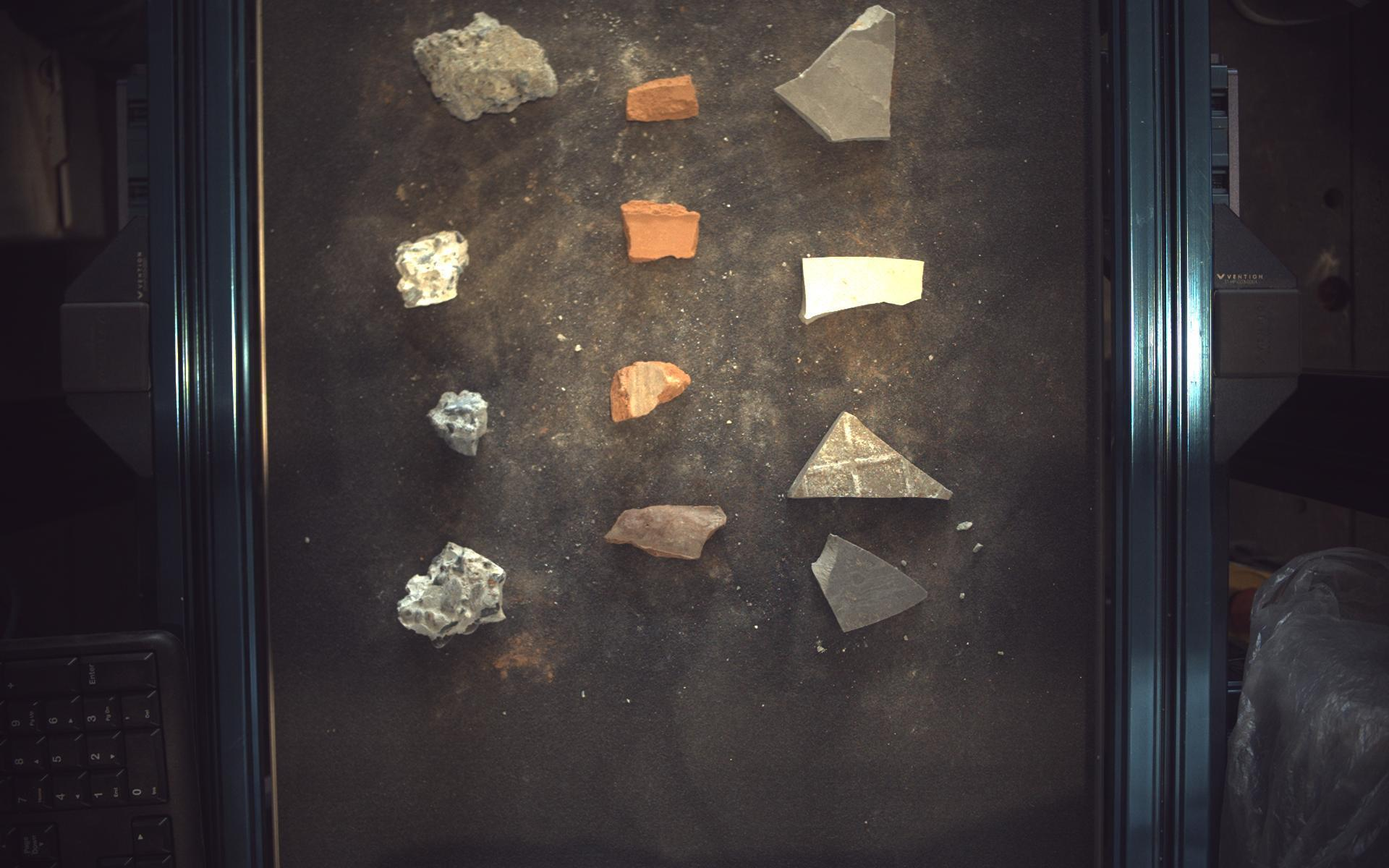brick: (606, 506, 728, 560), (621, 200, 700, 263), (611, 361, 692, 422), (627, 74, 699, 121)
concrete: (413, 11, 558, 120), (397, 542, 506, 649), (396, 231, 470, 308), (427, 390, 488, 456)
tile: (776, 4, 898, 141), (788, 412, 954, 501), (812, 535, 930, 632), (802, 256, 926, 323)
